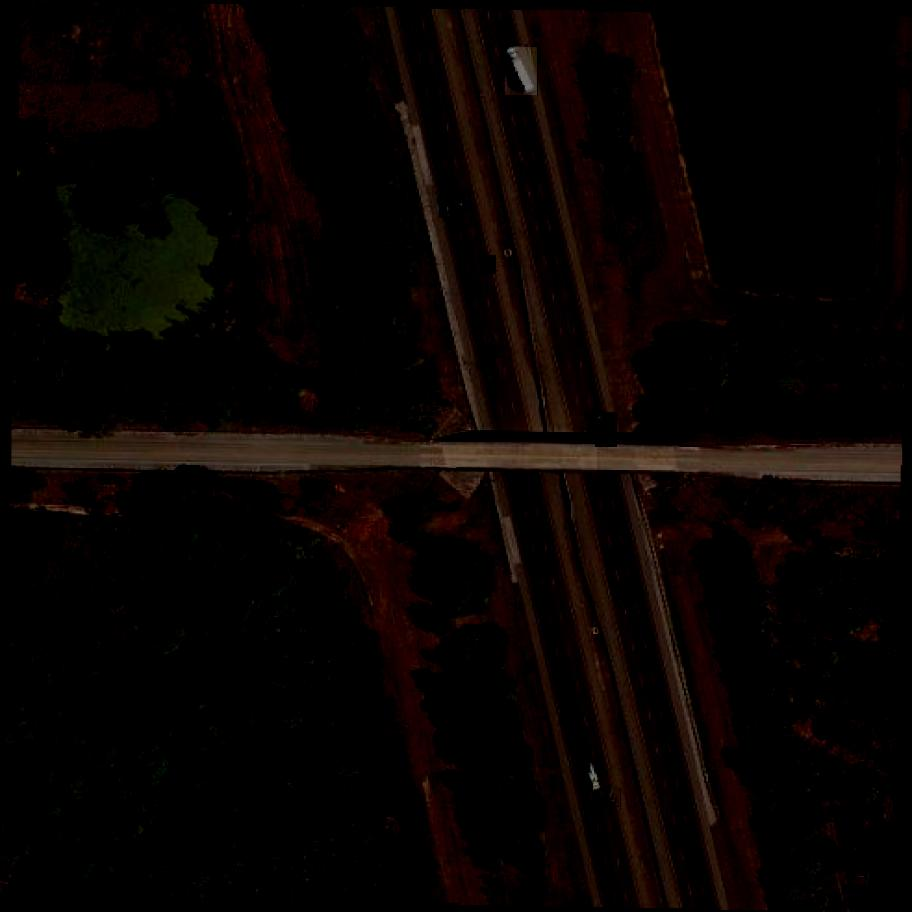large-vehicle: (505, 48, 539, 97), (585, 756, 604, 793)
small-vehicle: (595, 412, 618, 448), (560, 702, 580, 728), (484, 358, 502, 381), (439, 197, 457, 220), (605, 788, 622, 808), (480, 255, 497, 275), (455, 192, 467, 209)
